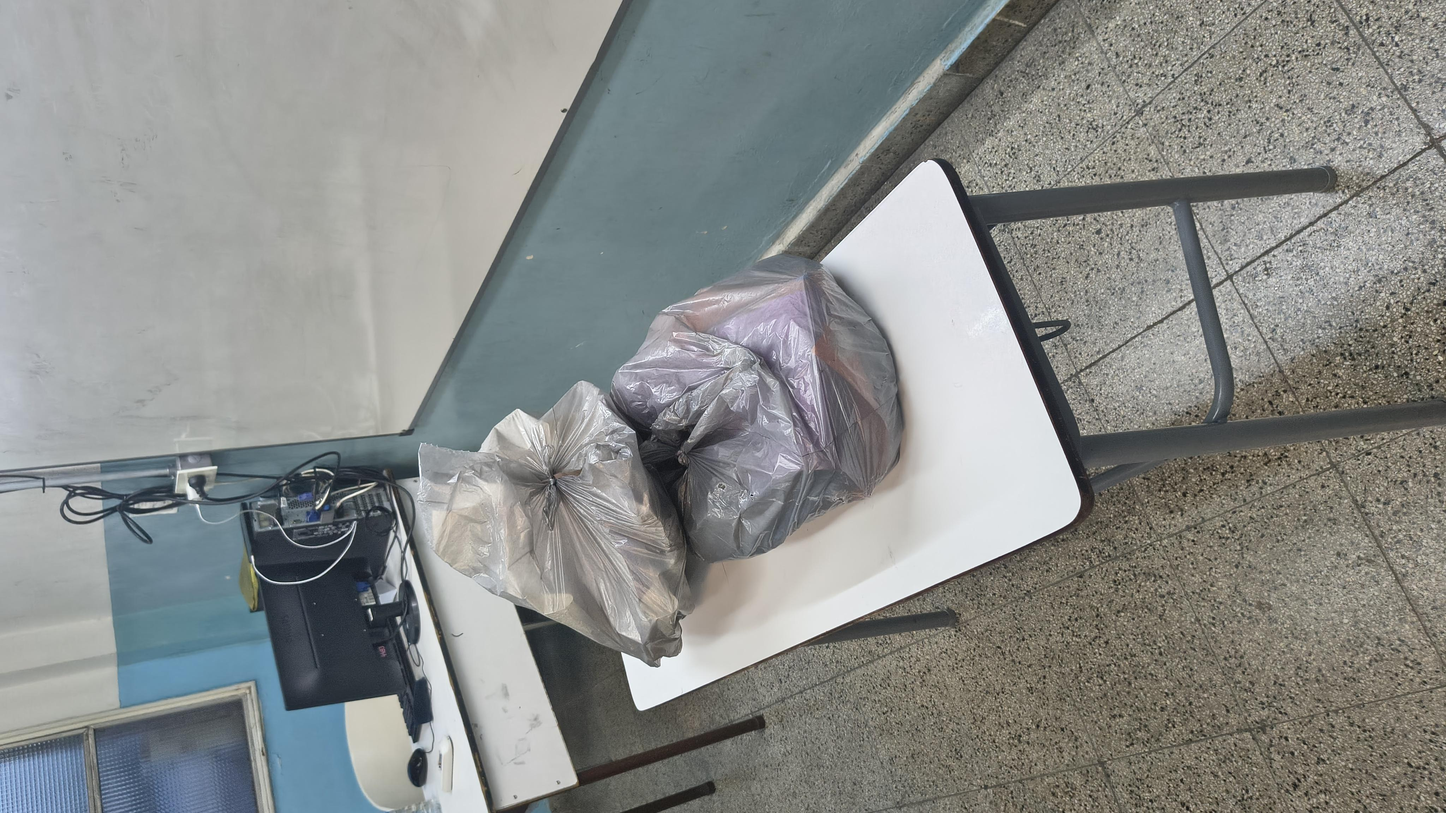Garbage: (427, 324, 1029, 538), (264, 232, 822, 409)
